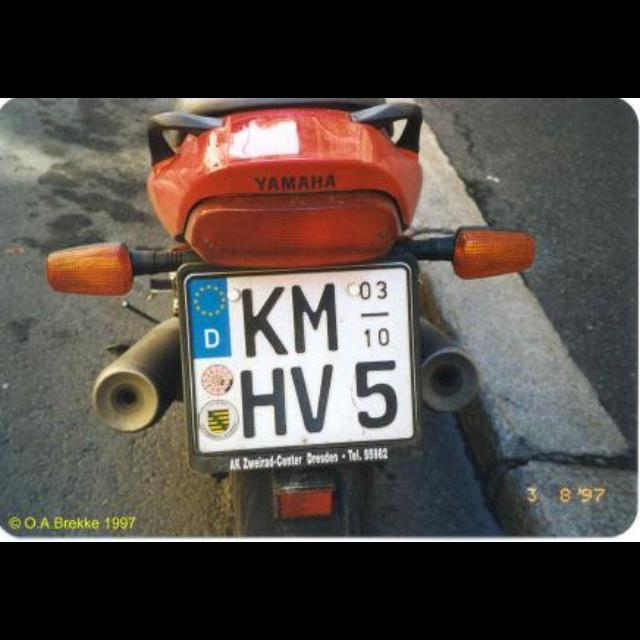license-plates: (183, 262, 416, 471)
